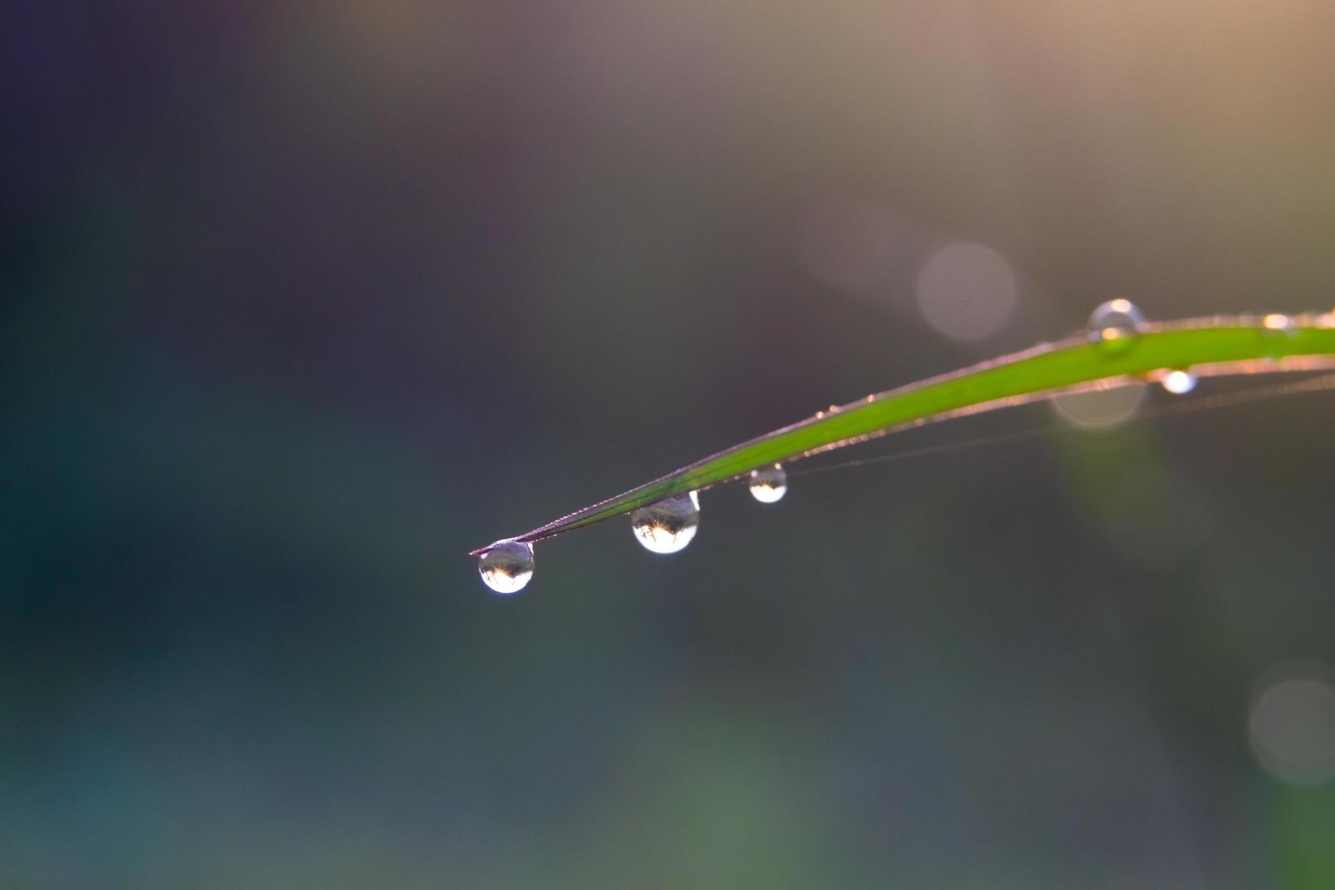water drop: (633, 486, 703, 553), (474, 536, 536, 598), (745, 460, 786, 505)
